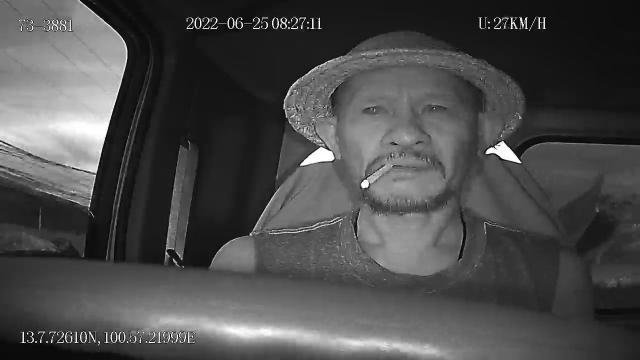SafeDriving: (414, 92, 456, 121), (356, 94, 394, 120)
Smoking: (358, 163, 394, 189)
